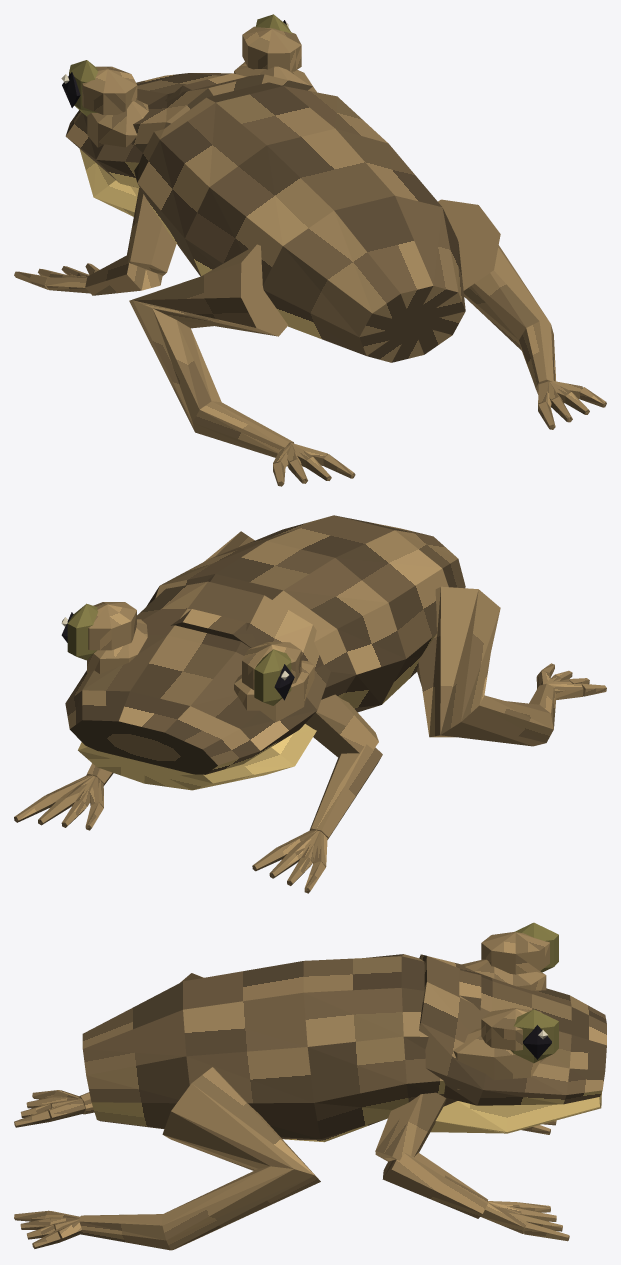
The model's file is mon_pickerel_frog.glb.
3 renders of one model, top to bottom at view 1: azimuth 30°, elevation 25°; view 2: azimuth 150°, elevation 25°; view 3: azimuth 270°, elevation 25°, orthographic. The views are drawn at different scales.
Visible parts, largest first — view 1: closed_body; view 2: closed_body; view 3: closed_body.
Part boxes in pixels (<box>): closed_body: <box>14,14,606,486</box>; closed_body: <box>14,515,606,893</box>; closed_body: <box>14,922,606,1250</box>.
Bounding box in the file's own units: 0.1183 × 0.0685 × 0.1767.
Materials: 1 (1 with a texture image).
